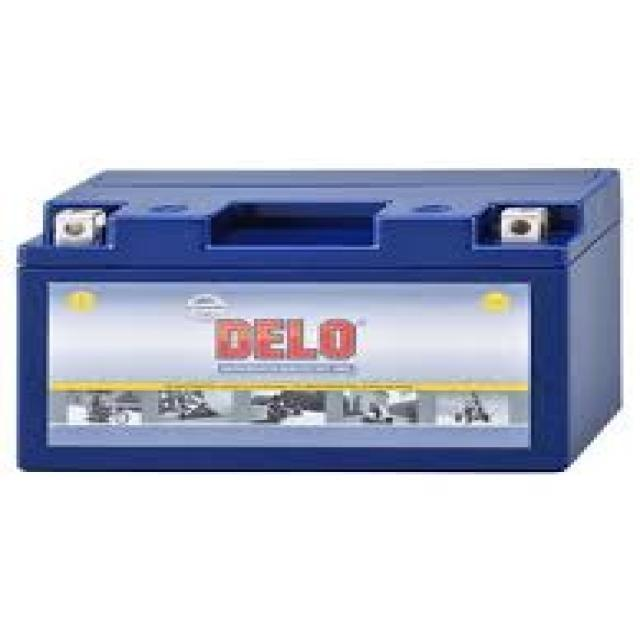Battery: (16, 158, 636, 490)
